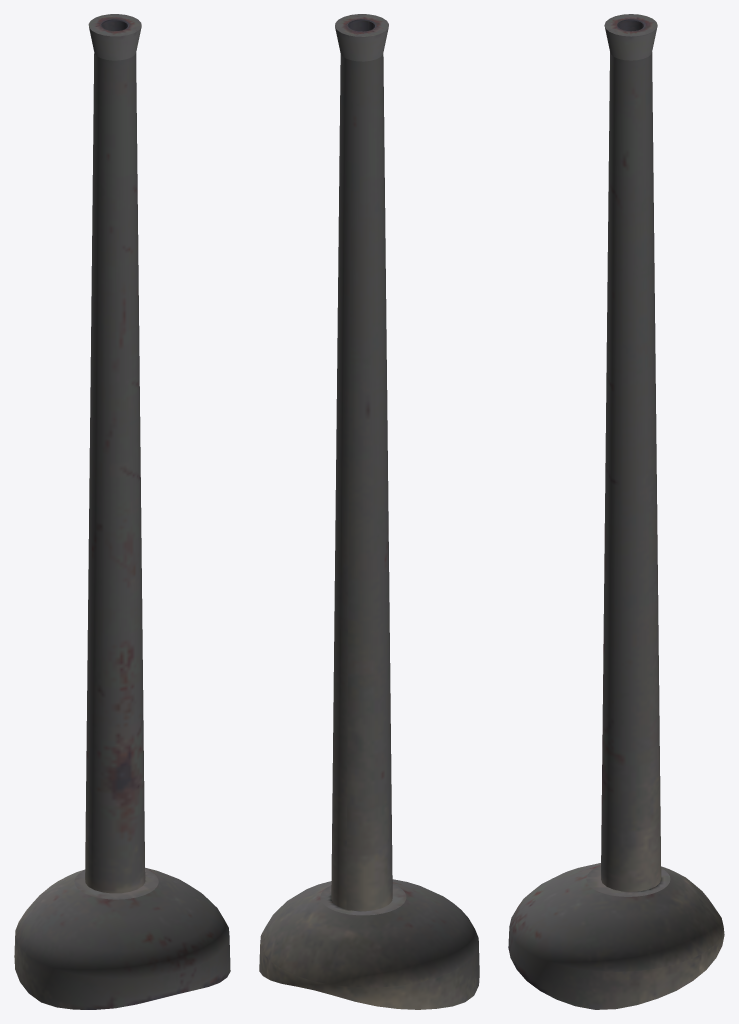
Rendered from Gun_01.glb.
3 renders of one model, left to right at view 1: azimuth 30°, elevation 25°; view 2: azimuth 150°, elevation 25°; view 3: azimuth 270°, elevation 25°, orthographic. The views are drawn at different scales.
Visible parts, largest first — view 1: set_0_group_0; view 2: set_0_group_0; view 3: set_0_group_0.
Boxes of the visible parts, x1,y1,x2,y2 form: set_0_group_0: [14, 14, 230, 1009]; set_0_group_0: [259, 14, 479, 1009]; set_0_group_0: [508, 14, 724, 1009].
Size of the model in its own units: 0.6309 by 3.03 by 0.6309.
Materials: 1 (1 with a texture image).
